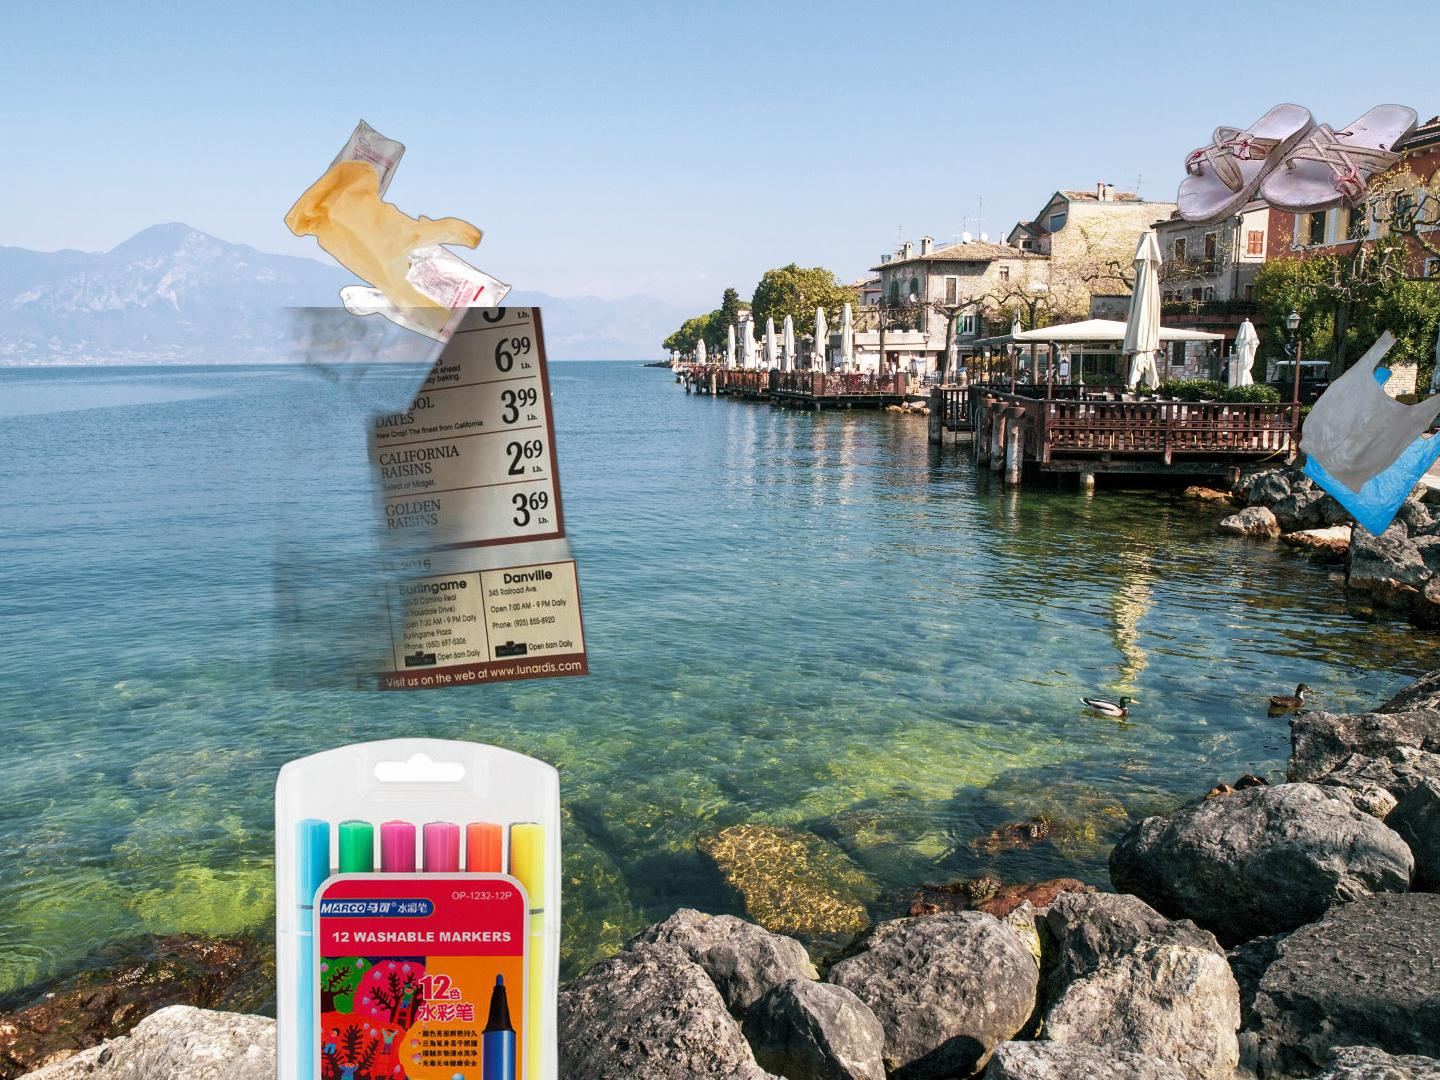paper: (141, 307, 611, 691)
penholder: (271, 732, 664, 1080)
plastic-bag: (282, 117, 515, 357), (1295, 327, 1440, 540)
shoes: (1174, 101, 1421, 230)
